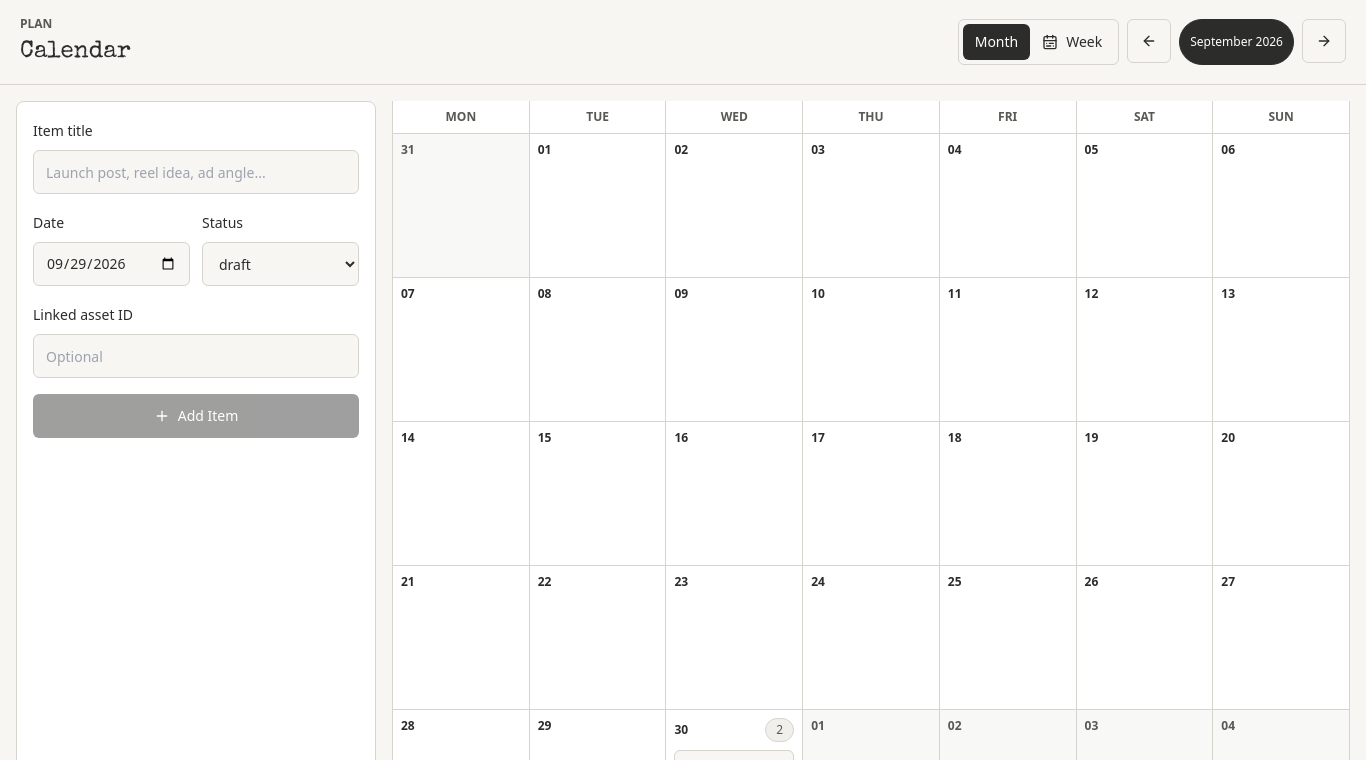
Scenario: P2-5 Calendar and Feed Grid › shows calendar guardrail warnings without blocking the week view
Click the button "Week" at (1072, 42), box [1030, 24, 1114, 60]
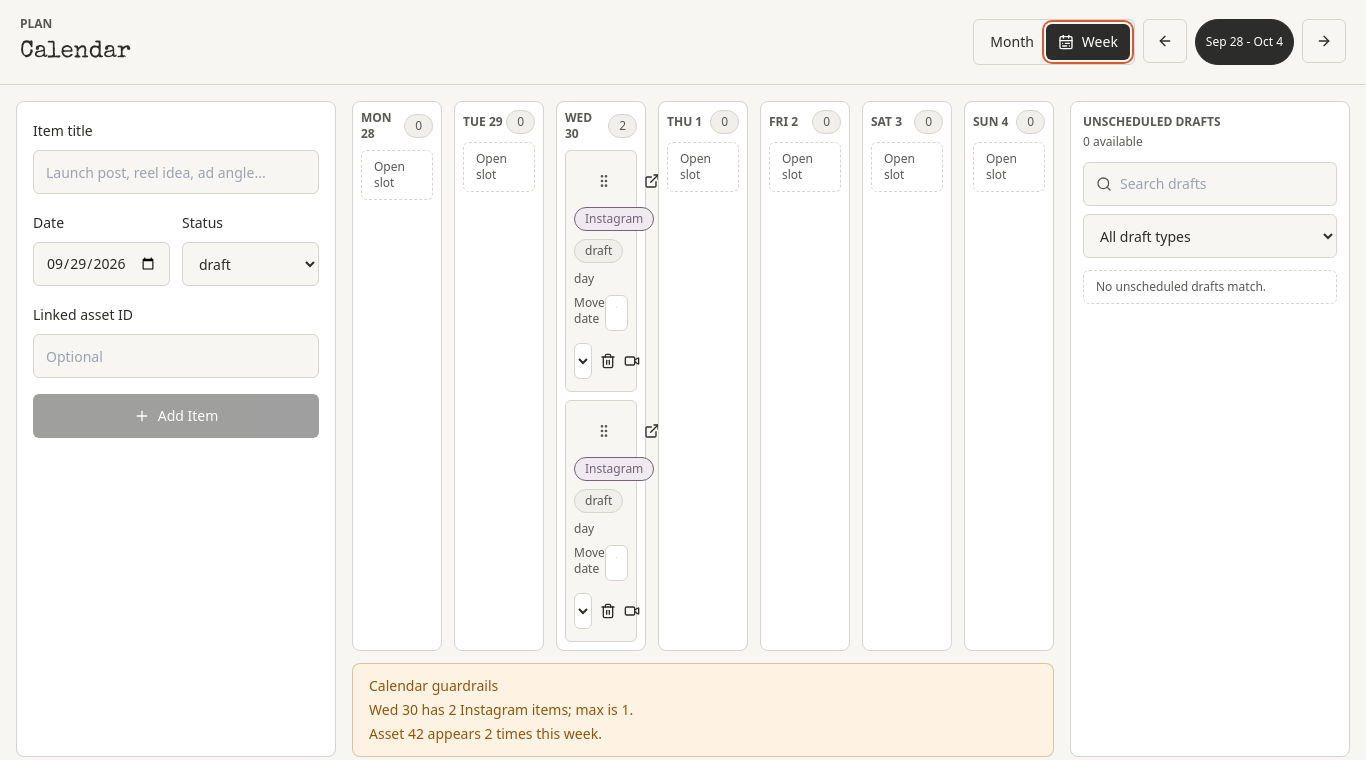
Check: the text "Calendar guardrails" is shown, box [369, 676, 498, 695]
Check: the list item "Wed 30 has 2 Instagram items; max is 1." is shown, box [369, 700, 633, 719]
Check: the list item "Asset 42 appears 2 times this week." is shown, box [369, 724, 602, 743]
